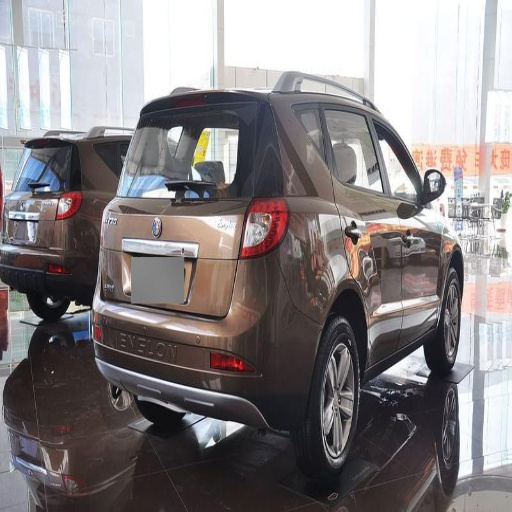back_bumper: (8, 253, 323, 499)
back_right_door: (298, 104, 402, 357)
tailgate: (104, 256, 228, 318)
trunk: (99, 200, 249, 313)
